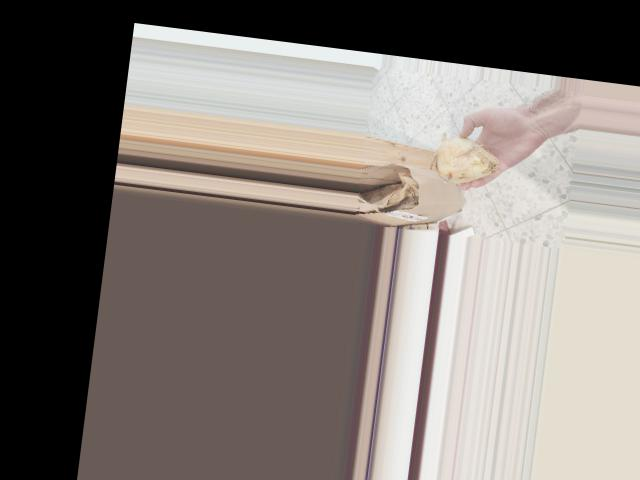onion: (430, 131, 505, 191)
